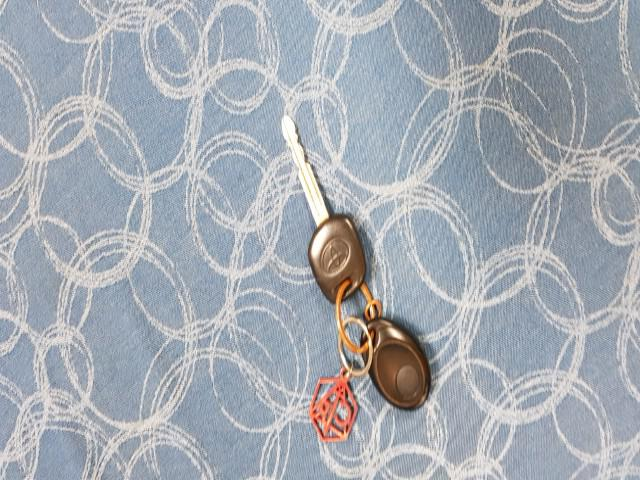key: (274, 103, 372, 307)
